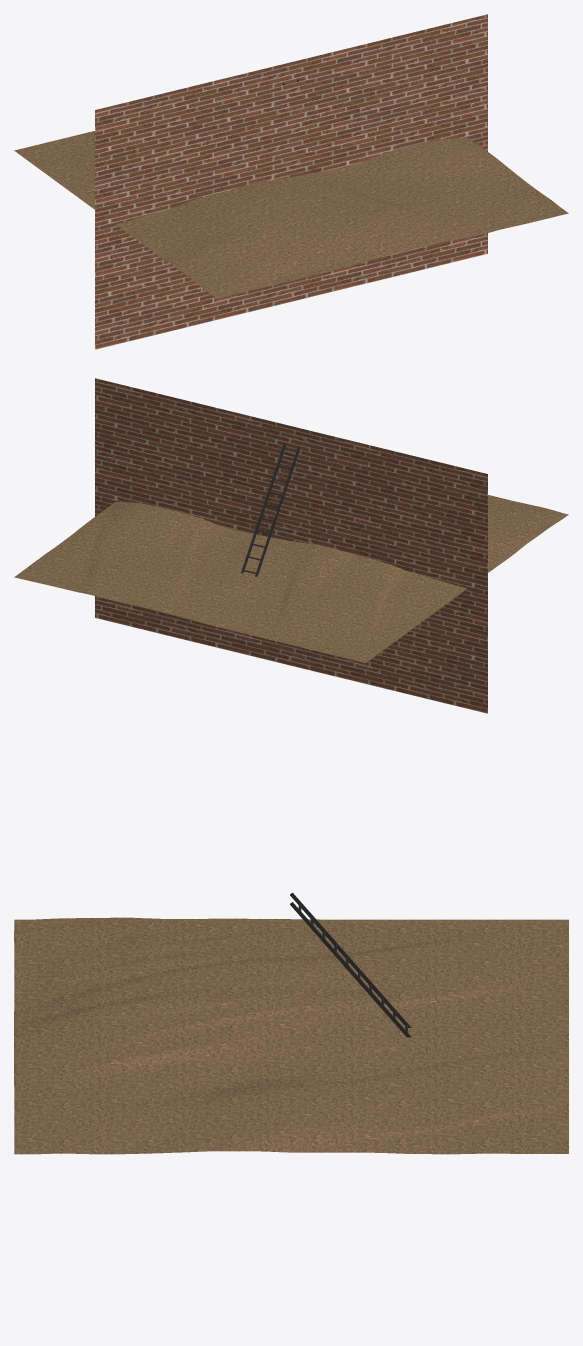
Rendered from LADDER1.glb.
3 renders of one model, top to bottom at view 1: azimuth 30°, elevation 25°; view 2: azimuth 150°, elevation 25°; view 3: azimuth 270°, elevation 25°, orthographic. The views are drawn at different scales.
Visible parts, largest first — view 1: Plane.001, Plane; view 2: Plane.001, Plane, Ladders.018; view 3: Plane, Ladders.018.
Boxes of the visible parts, <box> form: Plane.001: <box>95,14,487,349</box>; Plane: <box>14,131,568,299</box>; Plane.001: <box>95,378,487,713</box>; Plane: <box>14,495,568,663</box>; Ladders.018: <box>241,443,299,576</box>; Plane: <box>14,917,568,1154</box>; Ladders.018: <box>290,892,411,1037</box>.
Size of the model in its own units: 55.3 by 32.22 by 49.52.
7 materials, 5 textured.
